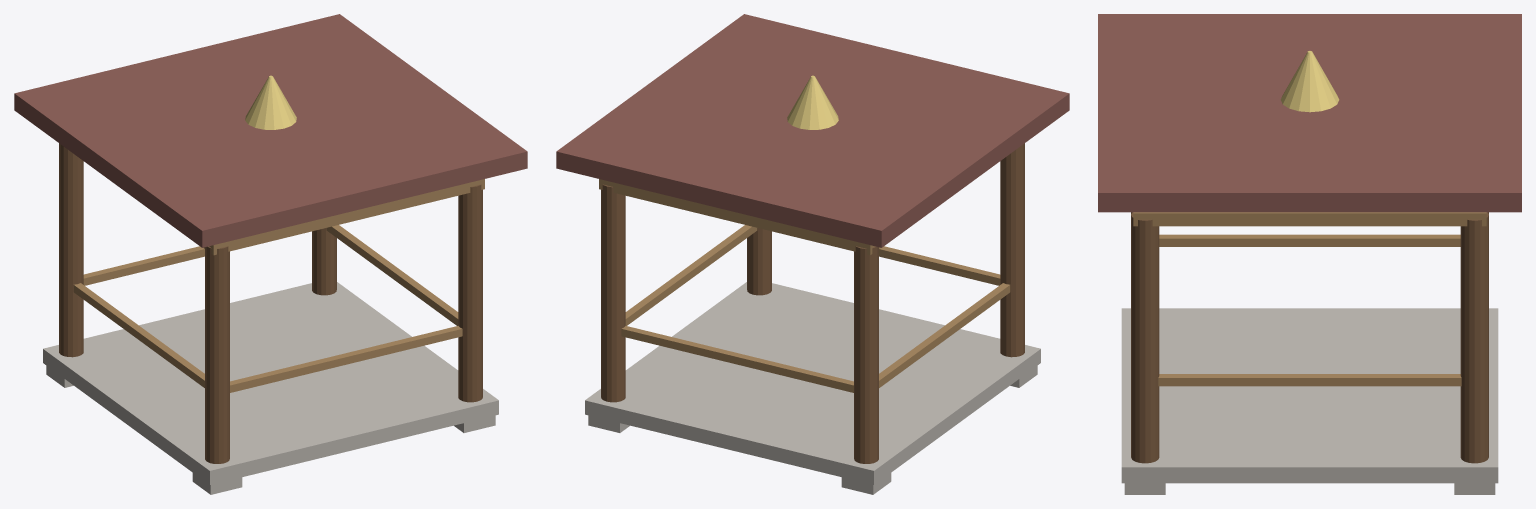
File: pavilion.glb
The picture shows the model from 3 angles, left to right: view 1: azimuth 30°, elevation 25°; view 2: azimuth 150°, elevation 25°; view 3: azimuth 270°, elevation 25°; orthographic projection. The views are drawn at different scales.
Visible parts, largest first — view 1: pavilion; view 2: pavilion; view 3: pavilion.
Boxes of the visible parts, box(x1,y1,x2,y2) form: pavilion: box(14, 14, 527, 494); pavilion: box(556, 14, 1069, 494); pavilion: box(1098, 14, 1521, 494).
Bounding box in the file's own units: 3.6 × 3.42 × 3.6.
